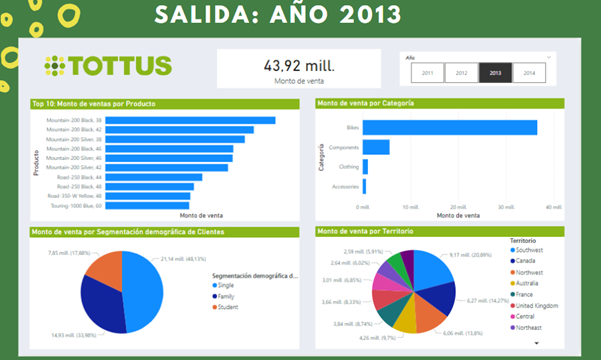

What the dashboard file says about the page in this screenshot:
{"tool":"powerbi","page":{"name":"Página 1","canvas":[1280,720],"ordinal":0},"visuals":[{"type":"barChart","title":"Top 10: Monto de ventas por Producto","fields":{"Category":["DIM PRODUCTO DESTINO.Name"],"Y":["FACT VENTAS DESTINO.Sales Amount"]},"box":[26.9,136.1,613.7,279.2],"z":0},{"type":"pieChart","fields":{"Category":["DIM CLIENTE DESTINO.Demographic Segment"],"Y":["FACT VENTAS DESTINO.Sales Amount"]},"box":[25.5,428,615.1,279.2],"z":1000},{"type":"barChart","fields":{"Category":["DIM PRODUCTO DESTINO.Category Name"],"Y":["FACT VENTAS DESTINO.Sales Amount"]},"box":[676.9,135.4,567.7,280],"z":2000},{"type":"card","fields":{"Values":["FACT VENTAS DESTINO.Sales Amount"]},"box":[453.5,22.7,374.2,89.3],"z":3000},{"type":"pieChart","fields":{"Category":["DIM TERRITORIO DESTINO.Name"],"Y":["FACT VENTAS DESTINO.Sales Amount"]},"box":[677,428,568,280],"z":4000},{"type":"slicer","fields":{"Values":["DIM TIEMPO DESTINO.Year"]},"box":[870.2,28.3,357.2,78],"z":5000},{"type":"image","box":[53.8,16.9,300,89.2],"z":6000}]}

Visuals, with their boxes in screenshot pixels (x1, y1, x2, y2):
"Top 10: Monto de ventas por Producto" barChart: locate(16, 90, 300, 219)
pieChart - DIM CLIENTE DESTINO.Demographic Segment x FACT VENTAS DESTINO.Sales Amount: locate(15, 225, 300, 354)
barChart - DIM PRODUCTO DESTINO.Category Name x FACT VENTAS DESTINO.Sales Amount: locate(317, 89, 579, 219)
card - FACT VENTAS DESTINO.Sales Amount: locate(213, 37, 386, 78)
pieChart - DIM TERRITORIO DESTINO.Name x FACT VENTAS DESTINO.Sales Amount: locate(317, 225, 580, 354)
slicer - DIM TIEMPO DESTINO.Year: locate(406, 40, 571, 76)
image: locate(28, 34, 167, 76)
